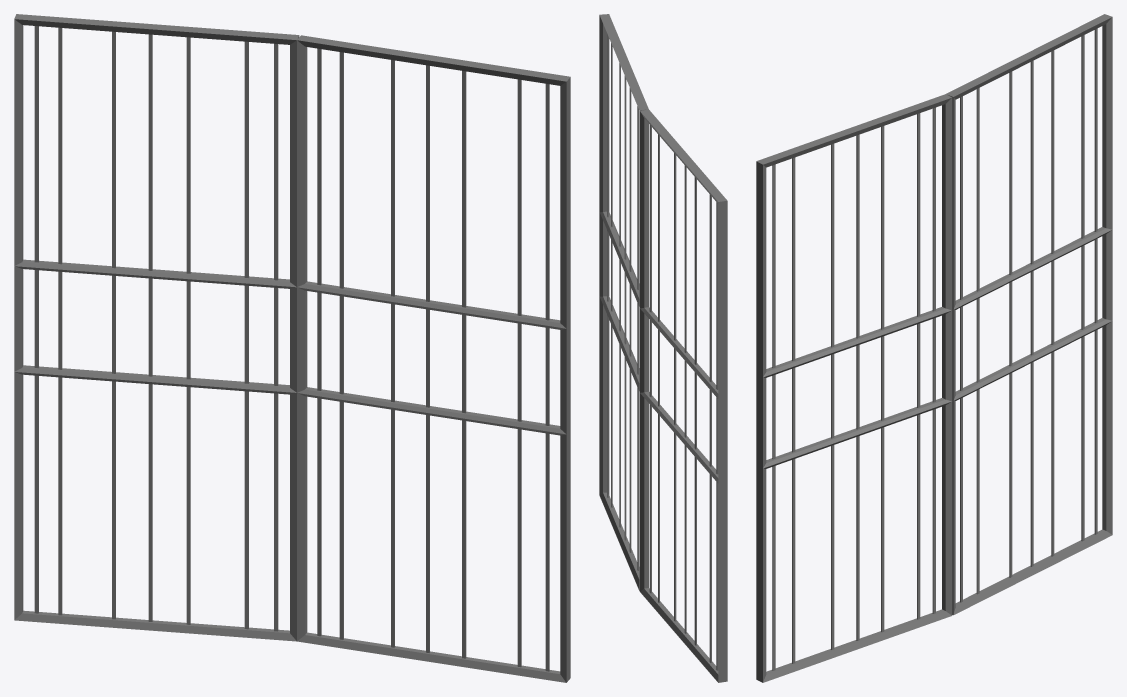
File: tesla_modules_core_gate_closed_01.dae
3 renders of one model, left to right at view 1: azimuth 30°, elevation 25°; view 2: azimuth 150°, elevation 25°; view 3: azimuth 270°, elevation 25°, orthographic. The views are drawn at different scales.
Visible parts, largest first — view 1: polySurface401; view 2: polySurface401; view 3: polySurface401.
Boxes of the visible parts, left/top/right/bottom form: polySurface401: left=14, top=14, right=570, bottom=682; polySurface401: left=599, top=14, right=727, bottom=682; polySurface401: left=756, top=14, right=1112, bottom=682.
Size of the model in its own units: 2063 by 3308 by 2063.
